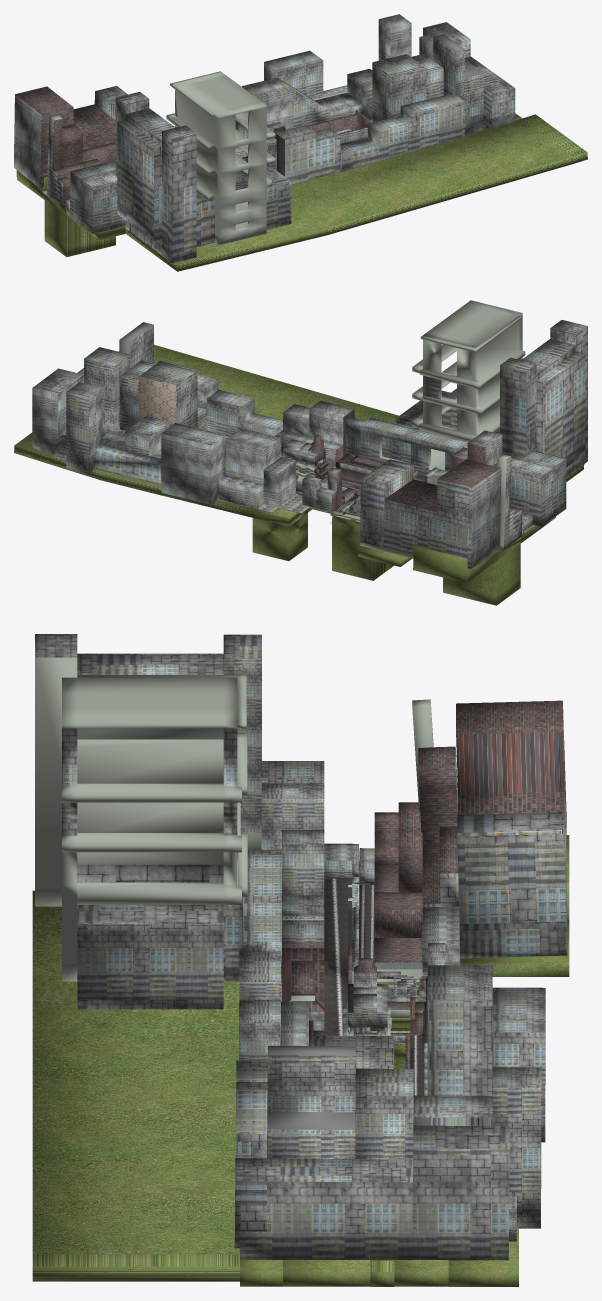
Rendered from decor6.obj.
3 views of the same model, one above another, from view 1: azimuth 30°, elevation 25°; view 2: azimuth 150°, elevation 25°; view 3: azimuth 270°, elevation 25° (orthographic). The views are drawn at different scales.
Visible parts, largest first — view 1: decor.003_Cube.010, decor2.003_Plane.003; view 2: decor.003_Cube.010, decor2.003_Plane.003; view 3: decor.003_Cube.010, decor2.003_Plane.003.
Part boxes in pixels (bbox=[...]): decor.003_Cube.010: bbox=[14, 14, 515, 263]; decor2.003_Plane.003: bbox=[16, 113, 587, 271]; decor.003_Cube.010: bbox=[32, 300, 587, 568]; decor2.003_Plane.003: bbox=[14, 344, 584, 605]; decor.003_Cube.010: bbox=[35, 634, 567, 1260]; decor2.003_Plane.003: bbox=[32, 835, 569, 1286].
Size of the model in its own units: 24454 by 9638 by 12783.
Materials: 6 (6 with a texture image).
